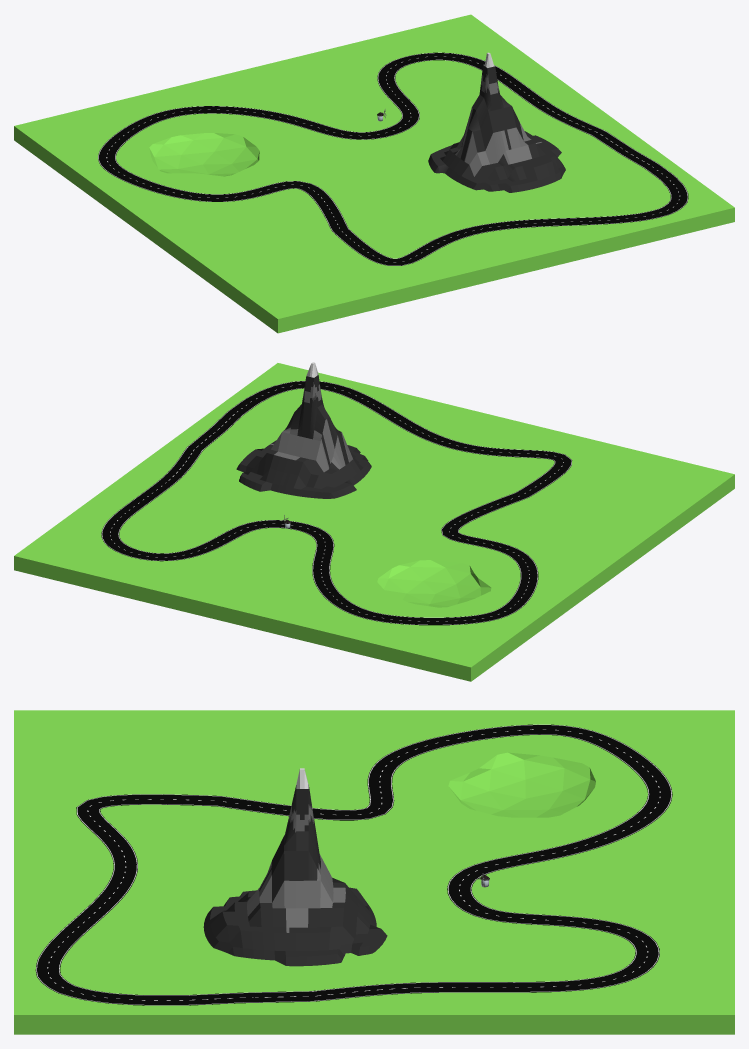
The model's file is alpha_map.glb.
The picture shows the model from 3 angles, top to bottom: view 1: azimuth 30°, elevation 25°; view 2: azimuth 150°, elevation 25°; view 3: azimuth 270°, elevation 25°; orthographic projection. The views are drawn at different scales.
Parts seen in each view (by area): view 1: Floor, Road, Mountain; view 2: Floor, Road, Mountain; view 3: Floor, Road, Mountain.
Part boxes in pixels (box(x1,y1,x2,y2)): Floor: box(14, 14, 734, 333); Road: box(98, 52, 688, 265); Mountain: box(428, 52, 565, 192); Floor: box(14, 363, 734, 681); Road: box(101, 381, 572, 625); Mountain: box(236, 362, 371, 498); Floor: box(14, 710, 734, 1034); Road: box(35, 724, 672, 1005); Mountain: box(203, 768, 387, 966).
Bounding box in the file's own units: 303 × 79.65 × 303.
